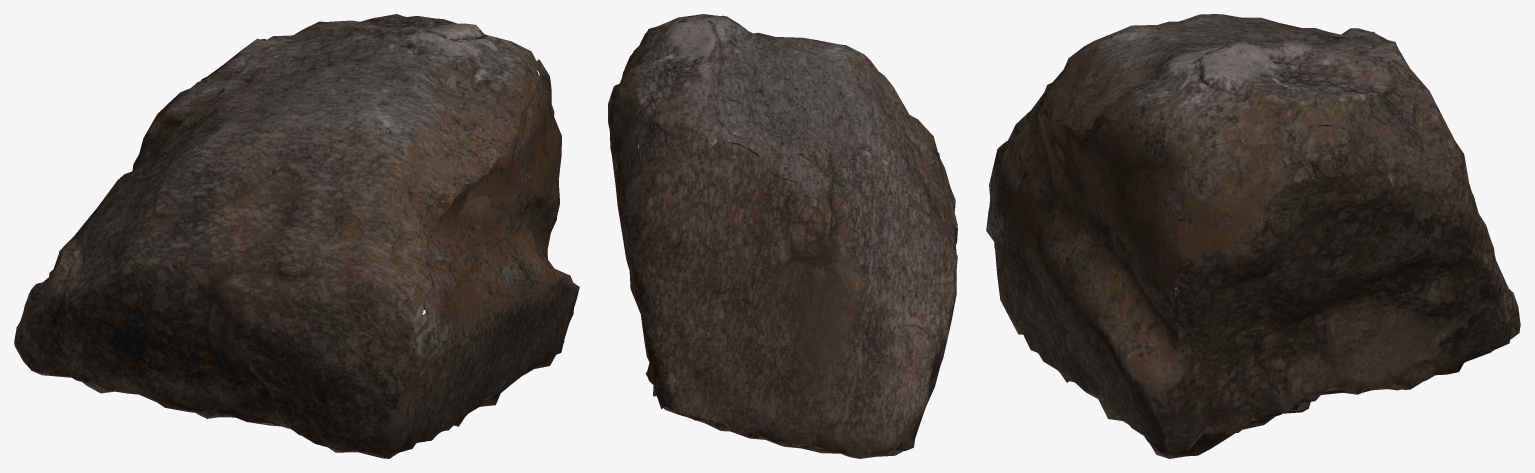
The model's file is kf_boulder_b_dark.glb.
3 renders of one model, left to right at view 1: azimuth 30°, elevation 25°; view 2: azimuth 150°, elevation 25°; view 3: azimuth 270°, elevation 25°, orthographic. The views are drawn at different scales.
Visible parts, largest first — view 1: boulder_04; view 2: boulder_04; view 3: boulder_04.
Part boxes in pixels (x1=…): boulder_04: x1=14, y1=14, x2=579, y2=458; boulder_04: x1=608, y1=14, x2=957, y2=458; boulder_04: x1=986, y1=14, x2=1520, y2=458.
Size of what is drawn, in the model's own units: 2.52 by 1.9 by 2.5.
Materials: 1 (1 with a texture image).
